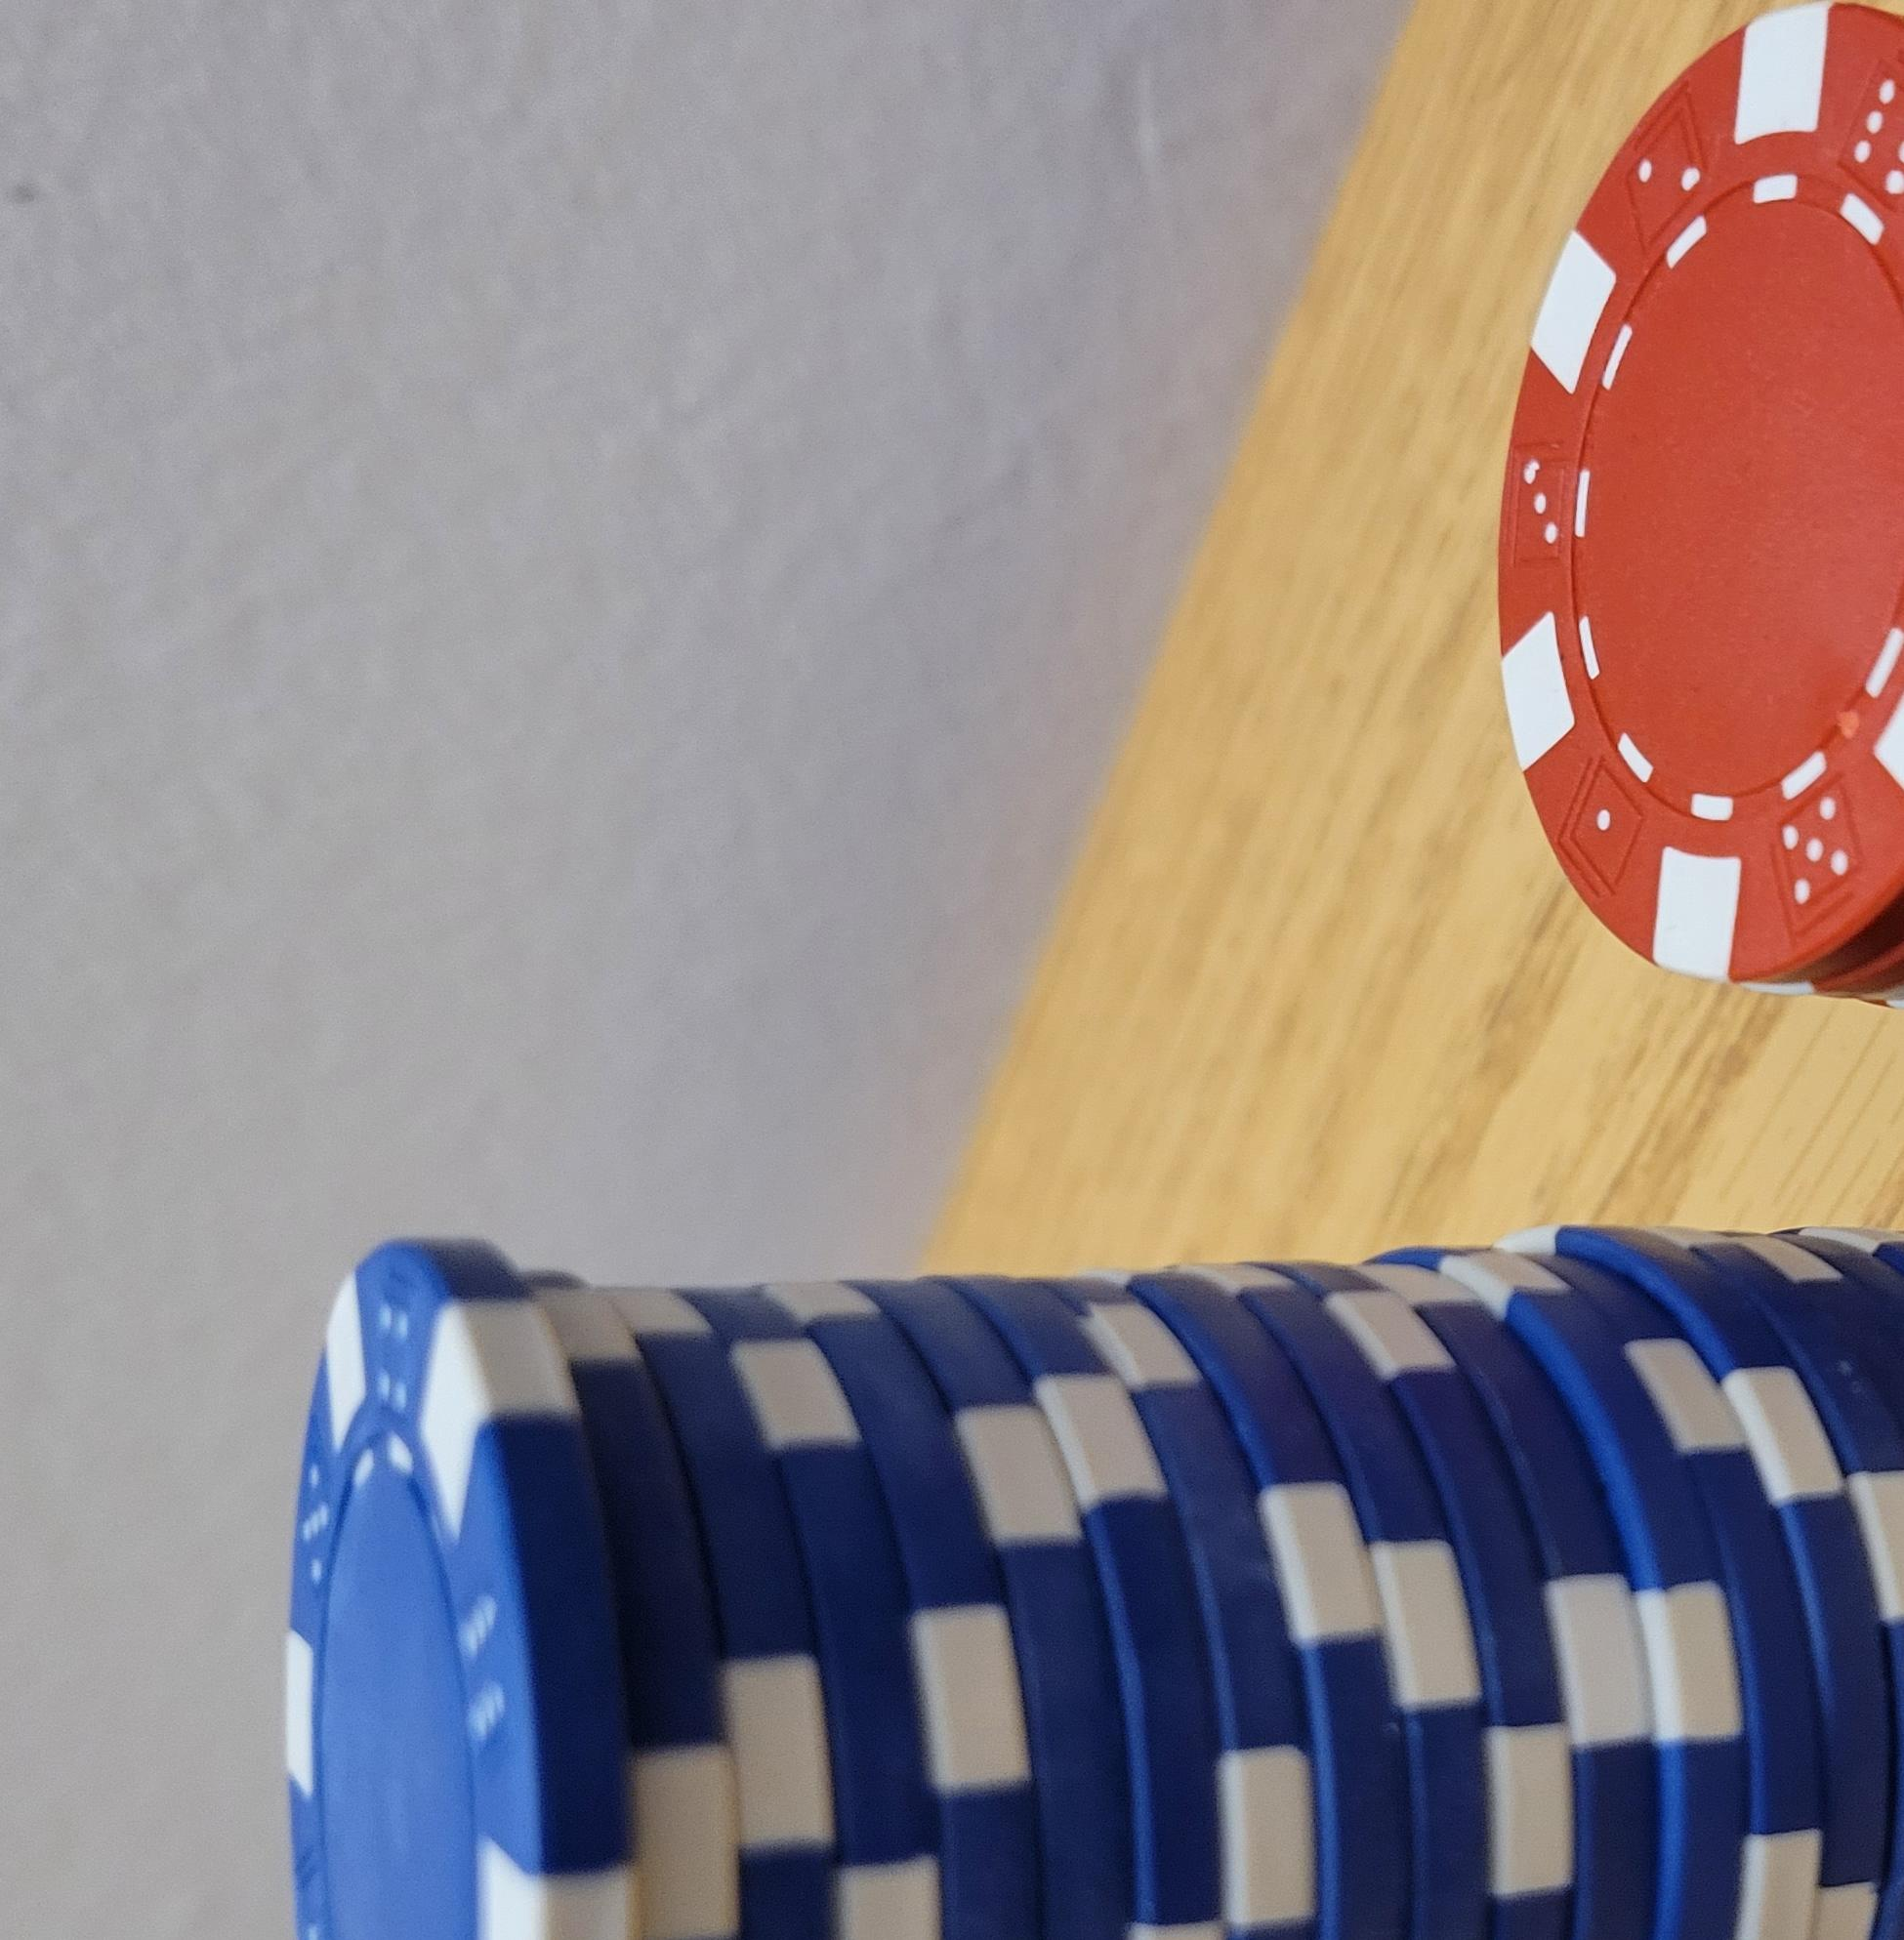Chip: (2, 89, 1369, 1940)
